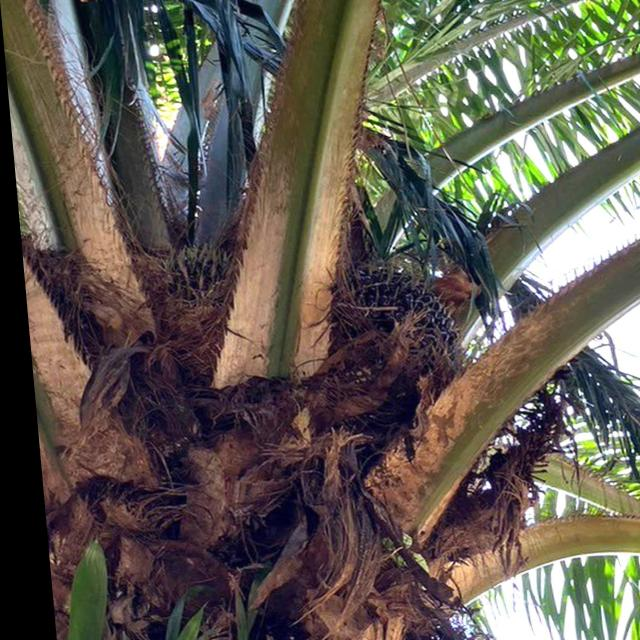ripe: (326, 267, 457, 399)
